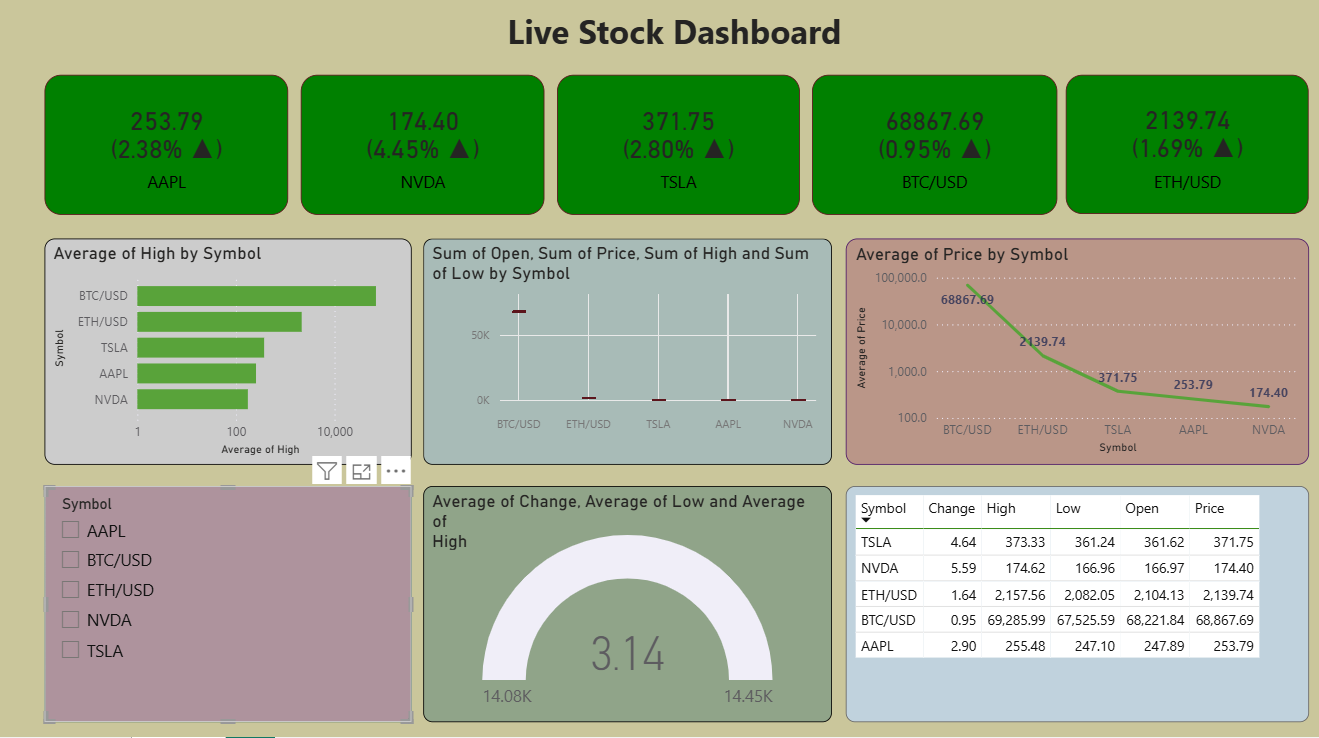

This screenshot's page, from the dashboard's own definition file:
{"tool":"powerbi","page":{"name":"Page 1","canvas":[1280,720],"ordinal":0},"visuals":[{"type":"card","fields":{"Values":["USD&apikey=ff82c2056dd340869f3c454303dd221d.KPI Text"]},"box":[45.8,80.8,235.3,135.1],"z":0},{"type":"lineChart","title":"Average Price Trend","fields":{"Category":["USD&apikey=ff82c2056dd340869f3c454303dd221d.Symbol"],"Y":["Avg(USD&apikey=ff82c2056dd340869f3c454303dd221d.Price)"]},"box":[819.2,238.9,447.6,218.4],"z":1000},{"type":"clusteredBarChart","title":"Average High Price by Symbol","fields":{"Category":["USD&apikey=ff82c2056dd340869f3c454303dd221d.Symbol"],"Y":["Avg(USD&apikey=ff82c2056dd340869f3c454303dd221d.High)"]},"box":[45.8,238.9,354.7,218.4],"z":2000},{"type":"tableEx","title":"Stock Price Details","fields":{"Values":["USD&apikey=ff82c2056dd340869f3c454303dd221d.Symbol","USD&apikey=ff82c2056dd340869f3c454303dd221d.Change","USD&apikey=ff82c2056dd340869f3c454303dd221d.High","USD&apikey=ff82c2056dd340869f3c454303dd221d.Low","USD&apikey=ff82c2056dd340869f3c454303dd221d.Open","USD&apikey=ff82c2056dd340869f3c454303dd221d.Price"]},"box":[819.2,477.8,447.6,228],"z":3000},{"type":"card","fields":{"Values":["USD&apikey=ff82c2056dd340869f3c454303dd221d.KPI Text"]},"box":[786.6,80.8,236.5,135.1],"z":4000},{"type":"slicer","title":"Filter by Symbol","fields":{"Values":["USD&apikey=ff82c2056dd340869f3c454303dd221d.Symbol"]},"box":[45.8,477.8,354.7,228],"z":5000},{"type":"card","fields":{"Values":["USD&apikey=ff82c2056dd340869f3c454303dd221d.KPI Text"]},"box":[1031.9,81,234.6,134.5],"z":6000},{"type":"card","fields":{"Values":["USD&apikey=ff82c2056dd340869f3c454303dd221d.KPI Text"]},"box":[293.2,80.8,235.3,135.1],"z":7000},{"type":"card","fields":{"Values":["USD&apikey=ff82c2056dd340869f3c454303dd221d.KPI Text"]},"box":[540.5,80.8,234,135.1],"z":8000},{"type":"textbox","box":[421,12.1,462.1,57.9],"z":9000},{"type":"PBI_CV_886A053E_9DFD_4EA0_A47D_CCAEB89AF969","title":"Price Comparision by symbol","fields":{"Category":["USD&apikey=ff82c2056dd340869f3c454303dd221d.Symbol"],"open":["Sum(USD&apikey=ff82c2056dd340869f3c454303dd221d.Open)"],"high":["Sum(USD&apikey=ff82c2056dd340869f3c454303dd221d.High)"],"low":["Sum(USD&apikey=ff82c2056dd340869f3c454303dd221d.Low)"],"close":["Sum(USD&apikey=ff82c2056dd340869f3c454303dd221d.Price)"]},"box":[411.4,238.9,394.5,218.4],"z":10000},{"type":"gauge","title":"Average Market Change","fields":{"Y":["Avg(USD&apikey=ff82c2056dd340869f3c454303dd221d.Change)"],"MaxValue":["Avg(USD&apikey=ff82c2056dd340869f3c454303dd221d.High)"],"MinValue":["Avg(USD&apikey=ff82c2056dd340869f3c454303dd221d.Low)"]},"box":[411.4,477.8,394.5,228],"z":10001}]}

Visuals, with their boxes in screenshot pixels (x1, y1, x2, y2), scaled from the page's 1280x720 canvas onto the 1319x738 screenshot:
card - USD&apikey=ff82c2056dd340869f3c454303dd221d.KPI Text: crop(47, 83, 290, 221)
"Average Price Trend" lineChart: crop(844, 245, 1305, 469)
"Average High Price by Symbol" clusteredBarChart: crop(47, 245, 413, 469)
"Stock Price Details" tableEx: crop(844, 490, 1305, 723)
card - USD&apikey=ff82c2056dd340869f3c454303dd221d.KPI Text: crop(811, 83, 1054, 221)
"Filter by Symbol" slicer: crop(47, 490, 413, 723)
card - USD&apikey=ff82c2056dd340869f3c454303dd221d.KPI Text: crop(1063, 83, 1305, 221)
card - USD&apikey=ff82c2056dd340869f3c454303dd221d.KPI Text: crop(302, 83, 545, 221)
card - USD&apikey=ff82c2056dd340869f3c454303dd221d.KPI Text: crop(557, 83, 798, 221)
textbox: crop(434, 12, 910, 72)
"Price Comparision by symbol" PBI_CV_886A053E_9DFD_4EA0_A47D_CCAEB89AF969: crop(424, 245, 830, 469)
"Average Market Change" gauge: crop(424, 490, 830, 723)
